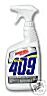grozi_41: (6, 4, 41, 92)
